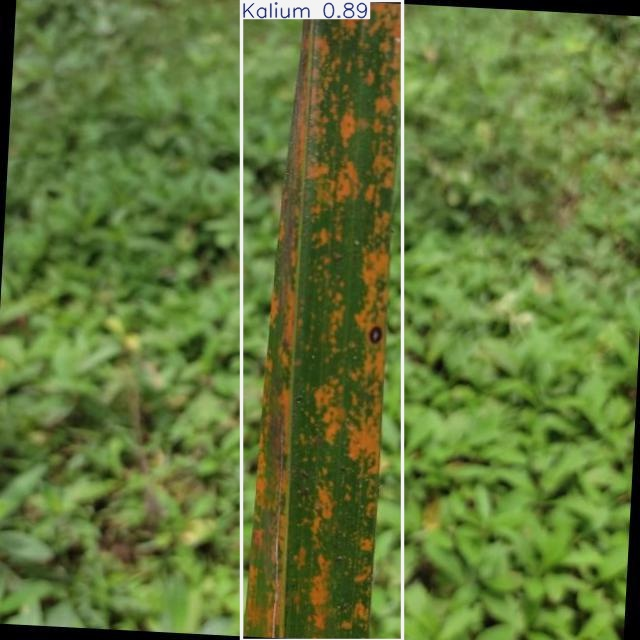Kalium: (242, 1, 402, 640)
